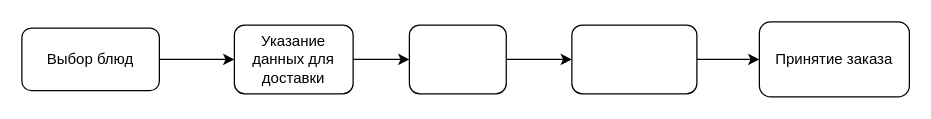
Some shapes in this 931 by 119 pixel diagram are drawn without their labels. The shapes that lost their labels are listed below. From the top down, each one's centre as x and y in pixels, then its label:
pixel 457 59: Оплата
pixel 634 59: Ожидание/Слежка за статусом
